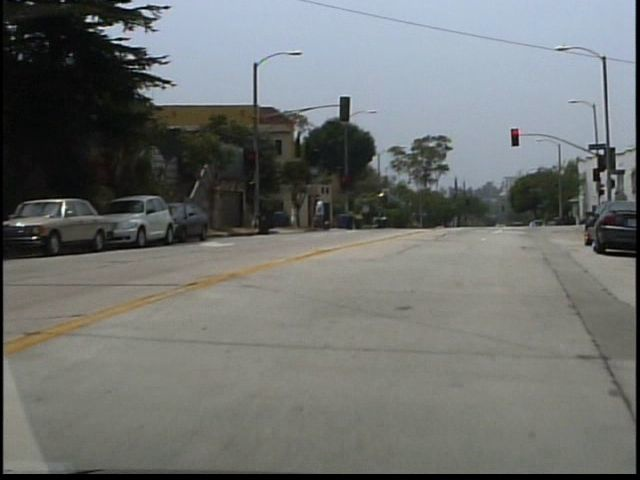person: (319, 198, 332, 234), (294, 203, 303, 232)
